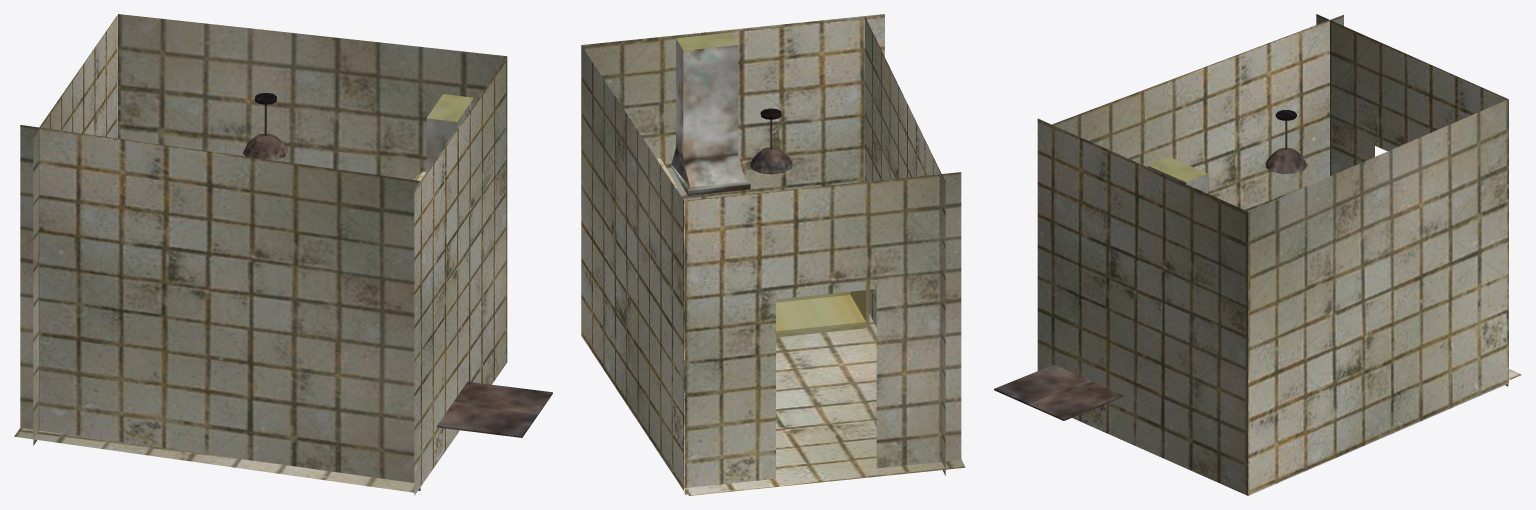
Rendered from dapurciy.fbx.
3 views of the same model, side by side, from view 1: azimuth 30°, elevation 25°; view 2: azimuth 150°, elevation 25°; view 3: azimuth 270°, elevation 25° (orthographic). The views are drawn at different scales.
Parts seen in each view (by area): view 1: tembokdapur, DoorR1SteelSinkKitchenCabinet1.003, DoorR1SteelSinkKitchenCabinet1.001, kompor dapur, lampubulet.001; view 2: tembokdapur, kompor dapur, wastapel, lampubulet.001; view 3: tembokdapur, DoorR1SteelSinkKitchenCabinet1.001, DoorR1SteelSinkKitchenCabinet1.003, lampubulet.001, kompor dapur.
Boxes of the visible parts, box(x1,y1,x2,y2) form: tembokdapur: box(14, 14, 507, 495); DoorR1SteelSinkKitchenCabinet1.003: box(437, 404, 537, 437); DoorR1SteelSinkKitchenCabinet1.001: box(452, 381, 552, 415); kompor dapur: box(426, 94, 473, 171); lampubulet.001: box(243, 93, 288, 160); tembokdapur: box(581, 14, 965, 495); kompor dapur: box(671, 32, 750, 342); wastapel: box(776, 290, 869, 337); lampubulet.001: box(749, 108, 792, 174); tembokdapur: box(1037, 14, 1521, 495); DoorR1SteelSinkKitchenCabinet1.001: box(1029, 380, 1123, 420); DoorR1SteelSinkKitchenCabinet1.003: box(994, 365, 1088, 405); lampubulet.001: box(1265, 110, 1307, 174); kompor dapur: box(1148, 157, 1207, 193).
Size of the model in its own units: 710 by 469 by 779.
